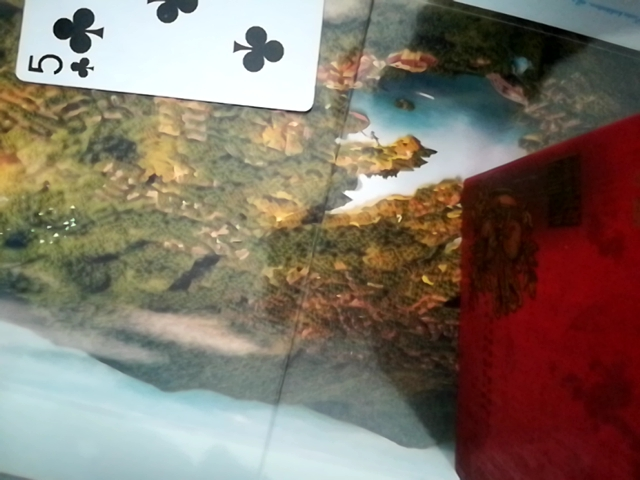mh 5: (14, 0, 346, 117)
